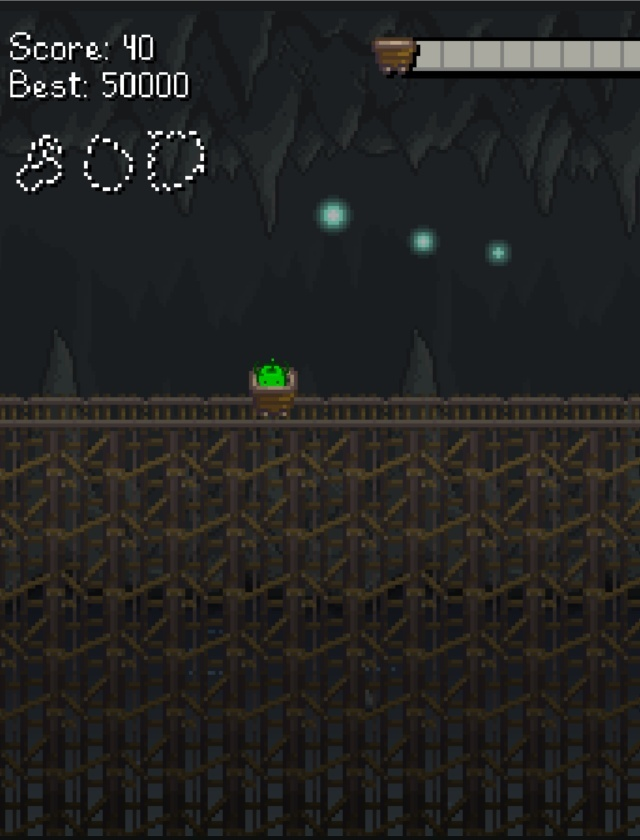minecart: (250, 358, 295, 417)
tracks: (308, 383, 640, 439), (0, 383, 240, 439)
